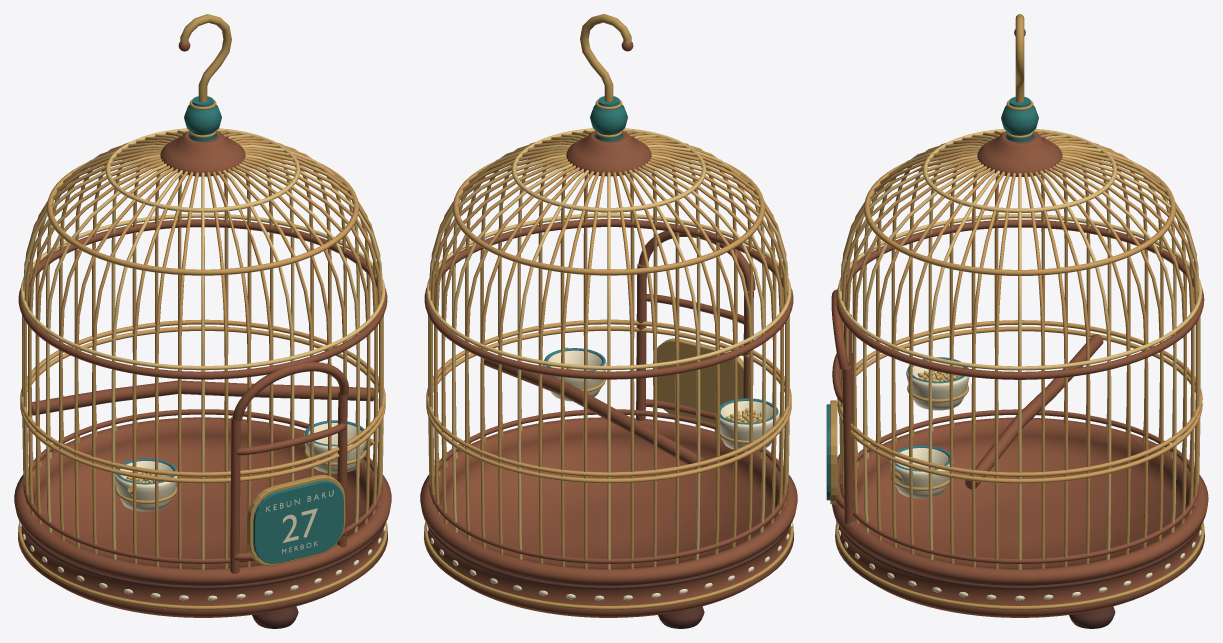
The picture shows the model from 3 angles, left to right: view 1: azimuth 30°, elevation 25°; view 2: azimuth 150°, elevation 25°; view 3: azimuth 270°, elevation 25°; orthographic projection.
Visible parts, largest first — view 1: Crown staves, Turned base, Hoop bindings, Door and badge, Perch and cups, Crown and hanger; view 2: Turned base, Crown staves, Hoop bindings, Door and badge, Perch and cups, Crown and hanger; view 3: Crown staves, Turned base, Hoop bindings, Perch and cups, Crown and hanger, Door and badge.
Boxes of the visible parts, x1,y1,x2,y2 form: Crown staves: (22, 130, 383, 569); Turned base: (14, 417, 391, 628); Hoop bindings: (18, 128, 387, 563); Door and badge: (230, 362, 348, 573); Perch and cups: (31, 380, 374, 511); Crown and hanger: (160, 14, 245, 176); Turned base: (420, 417, 797, 628); Crown staves: (428, 130, 789, 569); Hoop bindings: (424, 128, 793, 563); Door and badge: (636, 228, 755, 423); Perch and cups: (484, 347, 780, 468); Crown and hanger: (566, 14, 651, 176); Crown staves: (839, 131, 1200, 569); Turned base: (832, 417, 1208, 628); Hoop bindings: (836, 129, 1204, 563); Perch and cups: (889, 334, 1103, 498); Crown and hanger: (977, 14, 1062, 176); Door and badge: (826, 289, 854, 523).
Bounding box in the file's own units: 0.318 × 0.5136 × 0.3222.
